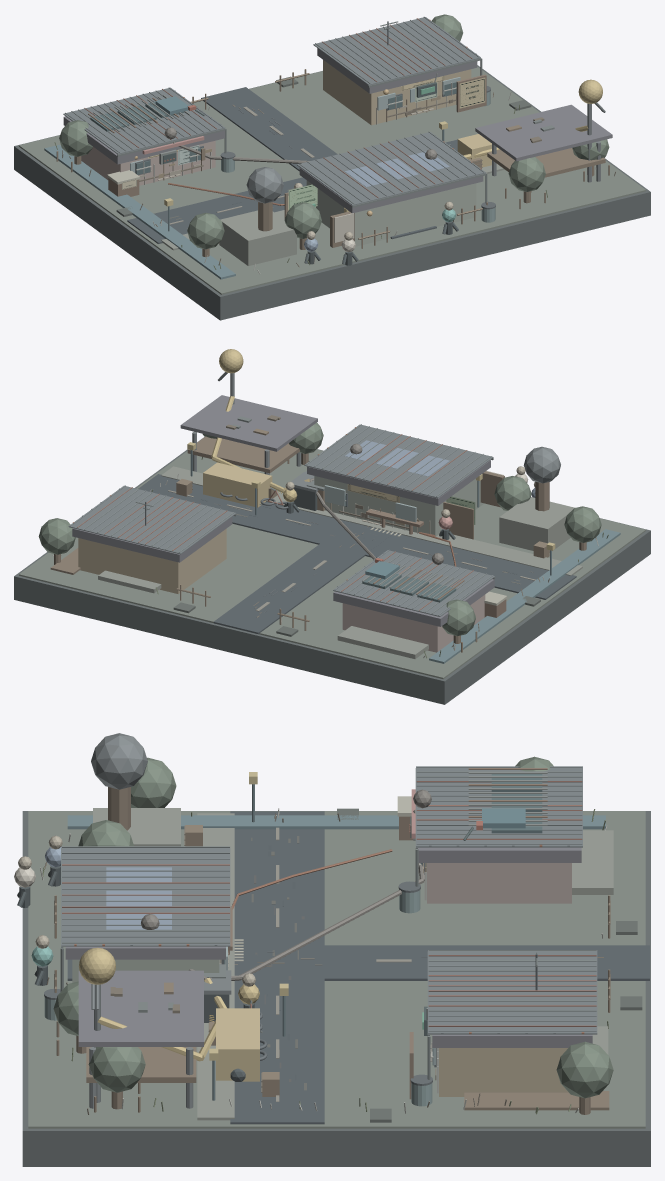
Rendered from yudae_e_shuttle_open_detailed.glb.
The picture shows the model from 3 angles, top to bottom: view 1: azimuth 30°, elevation 25°; view 2: azimuth 150°, elevation 25°; view 3: azimuth 270°, elevation 25°; orthographic projection. The views are drawn at different scales.
Parts seen in each view (by area): view 1: world; view 2: world; view 3: world.
Part boxes in pixels (x1,y1,x2,y2): world: [14, 14, 650, 320]; world: [14, 349, 650, 704]; world: [14, 733, 650, 1166].
Size of the model in its own units: 3.45 by 0.96 by 2.9.
9 materials, 9 textured.
